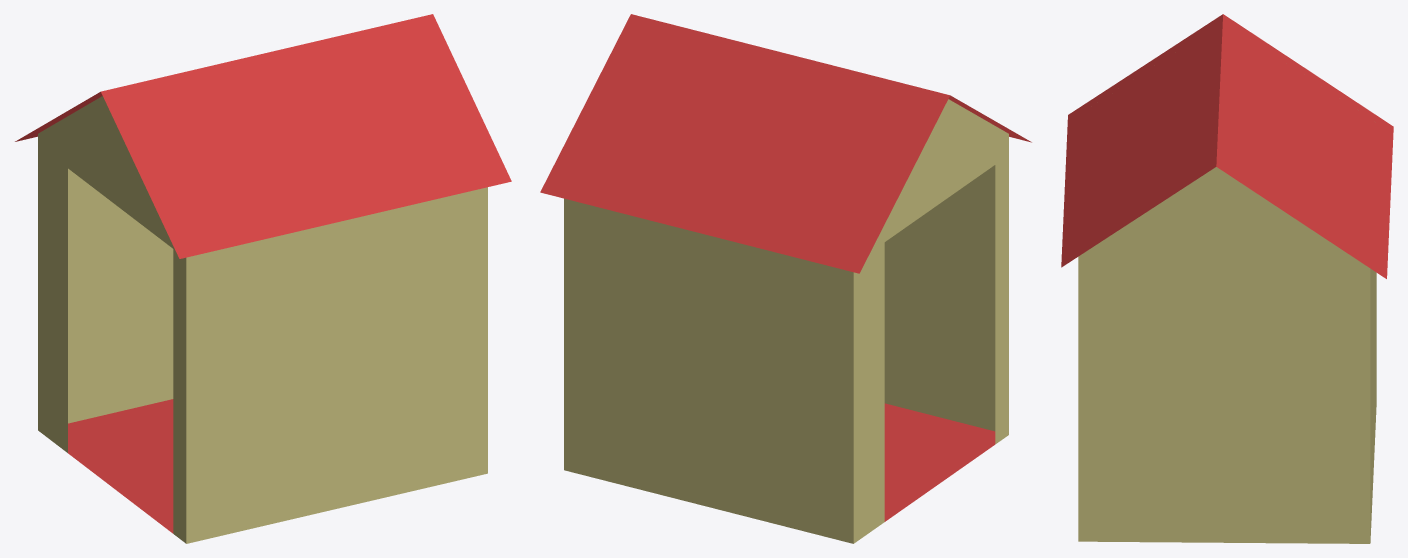
3 views of the same model, side by side, from view 1: azimuth 30°, elevation 25°; view 2: azimuth 150°, elevation 25°; view 3: azimuth 270°, elevation 25° (orthographic). The views are drawn at different scales.
Size of the model in its own units: 10.9 by 9.85 by 12.53.
